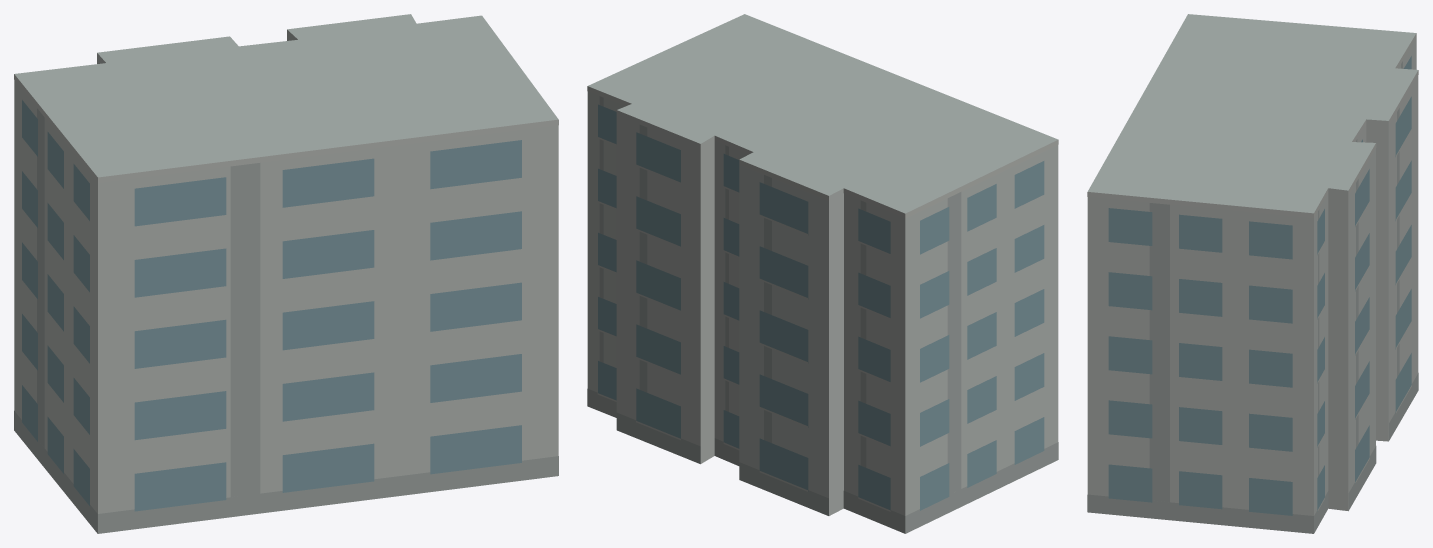
File: survey-upis-32799454.glb
3 renders of one model, left to right at view 1: azimuth 30°, elevation 25°; view 2: azimuth 150°, elevation 25°; view 3: azimuth 270°, elevation 25°, orthographic. The views are drawn at different scales.
Visible parts, largest first — view 1: survey-upis-32799454.tmp; view 2: survey-upis-32799454.tmp; view 3: survey-upis-32799454.tmp.
Boxes of the visible parts, x1=… form: survey-upis-32799454.tmp: x1=14, y1=14, x2=558, y2=533; survey-upis-32799454.tmp: x1=587, y1=14, x2=1058, y2=533; survey-upis-32799454.tmp: x1=1087, y1=14, x2=1418, y2=533.
Bounding box in the file's own units: 20.35 × 15.25 × 14.28.
